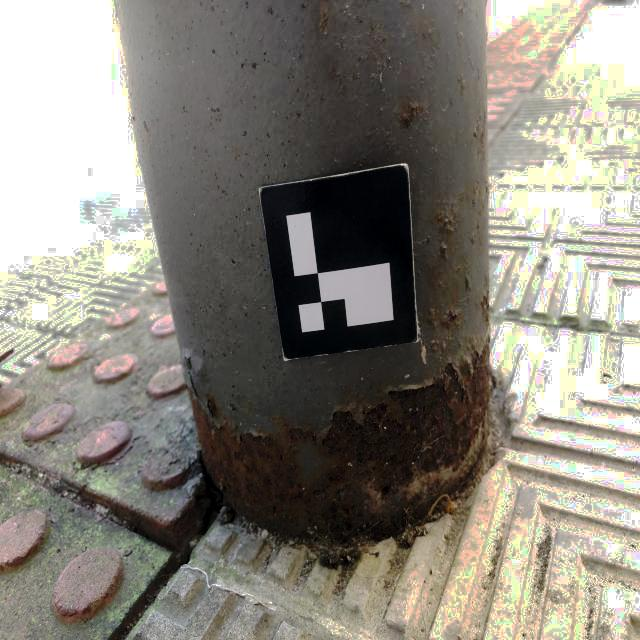Corrosion: (187, 274, 490, 533), (401, 105, 418, 127), (445, 309, 459, 326), (437, 214, 452, 229), (207, 398, 217, 417), (441, 245, 447, 255)
